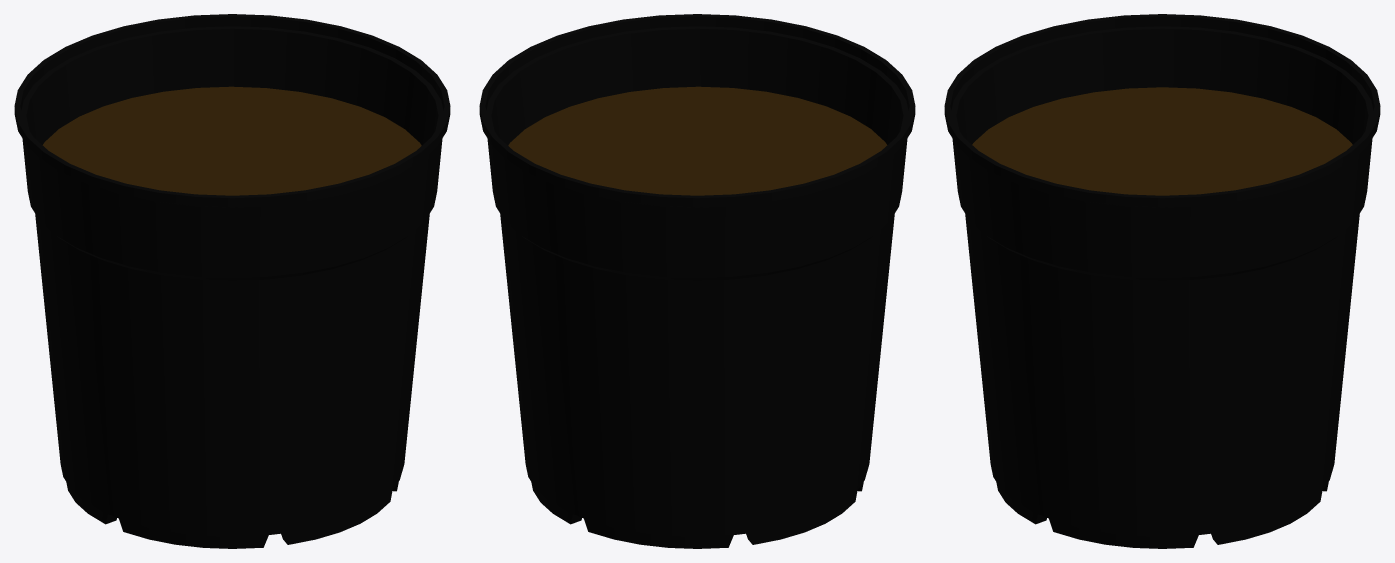
File: Pot_Nursery1.fbx
3 views of the same model, side by side, from view 1: azimuth 30°, elevation 25°; view 2: azimuth 150°, elevation 25°; view 3: azimuth 270°, elevation 25° (orthographic).
Parts seen in each view (by area): view 1: Pot_Nursery1; view 2: Pot_Nursery1; view 3: Pot_Nursery1.
Part boxes in pixels (x1,y1,x2,y2): Pot_Nursery1: (14,14,450,548); Pot_Nursery1: (479,14,915,548); Pot_Nursery1: (944,14,1380,548).
Bounding box in the file's own units: 212 × 200 × 212.
